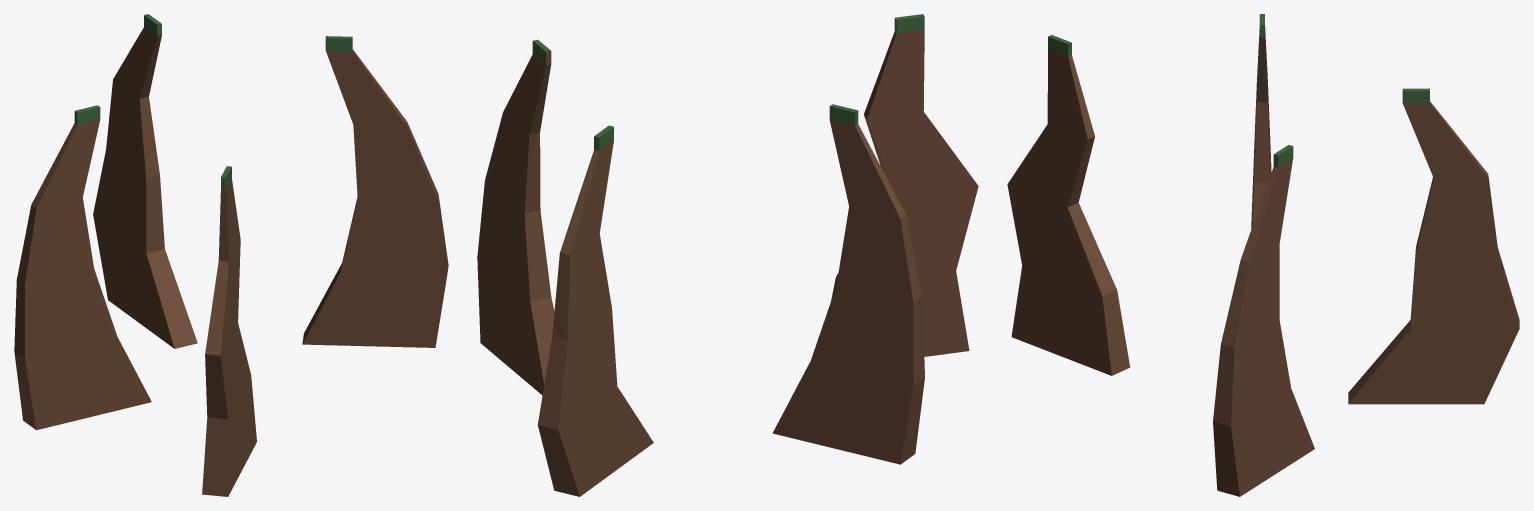
The model's file is Grass.fbx.
The picture shows the model from 3 angles, left to right: view 1: azimuth 30°, elevation 25°; view 2: azimuth 150°, elevation 25°; view 3: azimuth 270°, elevation 25°; orthographic projection. The views are drawn at different scales.
Visible parts, largest first — view 1: Grass, node_id55.002; view 2: Grass, node_id55.002; view 3: Grass, node_id55.002.
Boxes of the visible parts, x1=… form: Grass: x1=14, y1=27, x2=448, y2=496; node_id55.002: x1=74, y1=14, x2=352, y2=189; Grass: x1=477, y1=30, x2=978, y2=496; node_id55.002: x1=532, y1=14, x2=924, y2=150; Grass: x1=1007, y1=27, x2=1519, y2=496; node_id55.002: x1=1048, y1=14, x2=1429, y2=167.
Size of the model in its own units: 35.8 by 25 by 37.61.
